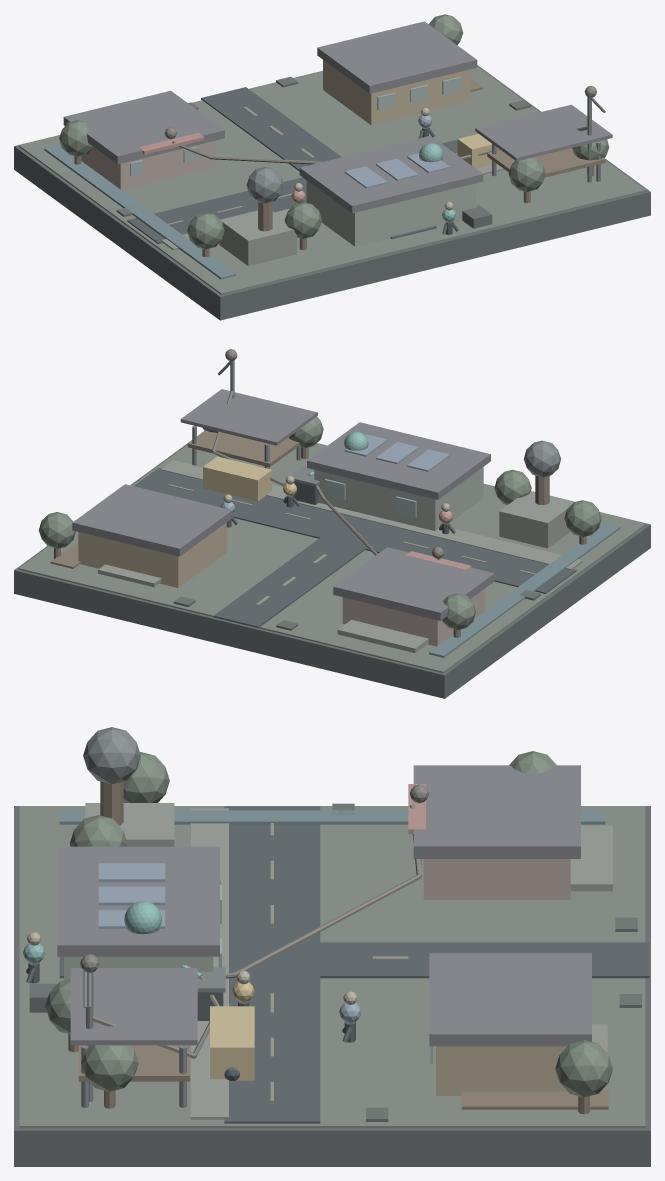
File: yudae_e_commons_direct.glb
The picture shows the model from 3 angles, top to bottom: view 1: azimuth 30°, elevation 25°; view 2: azimuth 150°, elevation 25°; view 3: azimuth 270°, elevation 25°; orthographic projection. The views are drawn at different scales.
Parts seen in each view (by area): view 1: g0001, g0000, g0037, g0043, g0031, g0042, g0003, g0054, g0036, g0030, g0061, g0016 (+14 smaller); view 2: g0001, g0000, g0002, g0037, g0043, g0031, g0003, g0042, g0036, g0054, g0015, g0061 (+14 smaller); view 3: g0001, g0000, g0002, g0037, g0031, g0043, g0003, g0054, g0030, g0036, g0015, g0016 (+20 smaller).
Part boxes in pixels (x1,y1,x2,y2): g0001: [19, 66, 645, 294]; g0000: [14, 65, 650, 320]; g0037: [317, 21, 477, 93]; g0043: [299, 135, 483, 213]; g0031: [63, 90, 224, 164]; g0042: [306, 180, 476, 246]; g0003: [201, 87, 436, 239]; g0054: [475, 104, 612, 161]; g0036: [323, 60, 471, 125]; g0030: [81, 140, 215, 190]; g0061: [219, 210, 296, 265]; g0016: [44, 144, 235, 279]; g0001: [19, 443, 645, 673]; g0000: [14, 431, 650, 698]; g0002: [133, 468, 576, 593]; g0037: [72, 484, 232, 556]; g0043: [307, 422, 490, 499]; g0031: [333, 547, 494, 620]; g0003: [213, 516, 394, 628]; g0042: [314, 467, 483, 530]; g0036: [78, 522, 226, 587]; g0054: [180, 389, 317, 445]; g0015: [161, 460, 582, 569]; g0061: [499, 491, 575, 548]; g0001: [19, 806, 645, 1128]; g0000: [14, 806, 650, 1166]; g0002: [224, 806, 320, 1123]; g0037: [429, 953, 591, 1046]; g0031: [413, 765, 580, 858]; g0043: [57, 846, 219, 956]; g0003: [59, 942, 649, 978]; g0054: [70, 968, 197, 1045]; g0030: [423, 859, 570, 899]; g0036: [436, 1046, 567, 1095]; g0015: [191, 808, 228, 1119]; g0016: [59, 810, 605, 824].
Bounding box in the file's own units: 3.45 × 0.918 × 2.86.
